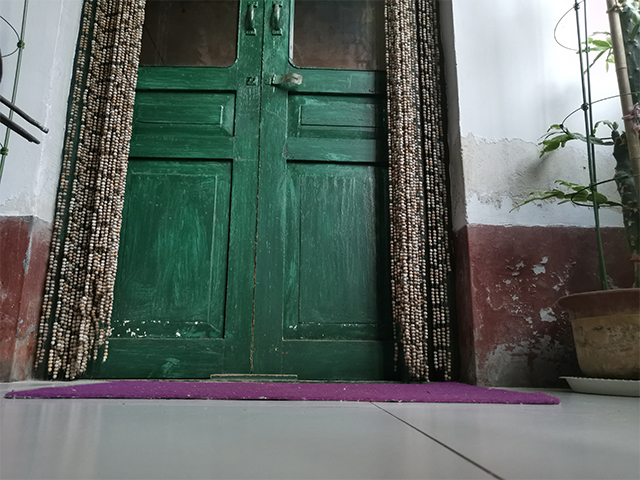carpet: (3, 378, 566, 405)
